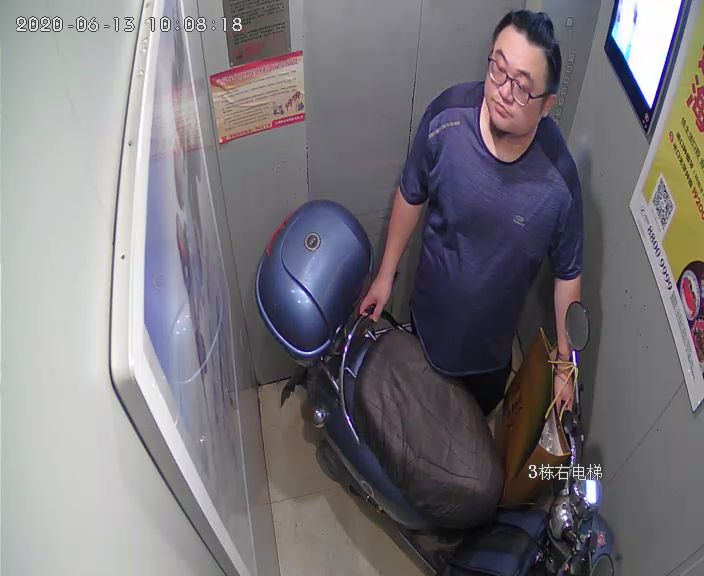Electric-bicycle: (253, 195, 618, 573)
